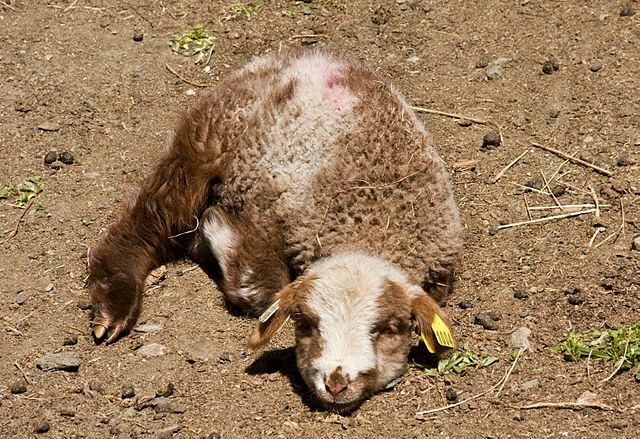resting: (85, 48, 464, 402)
